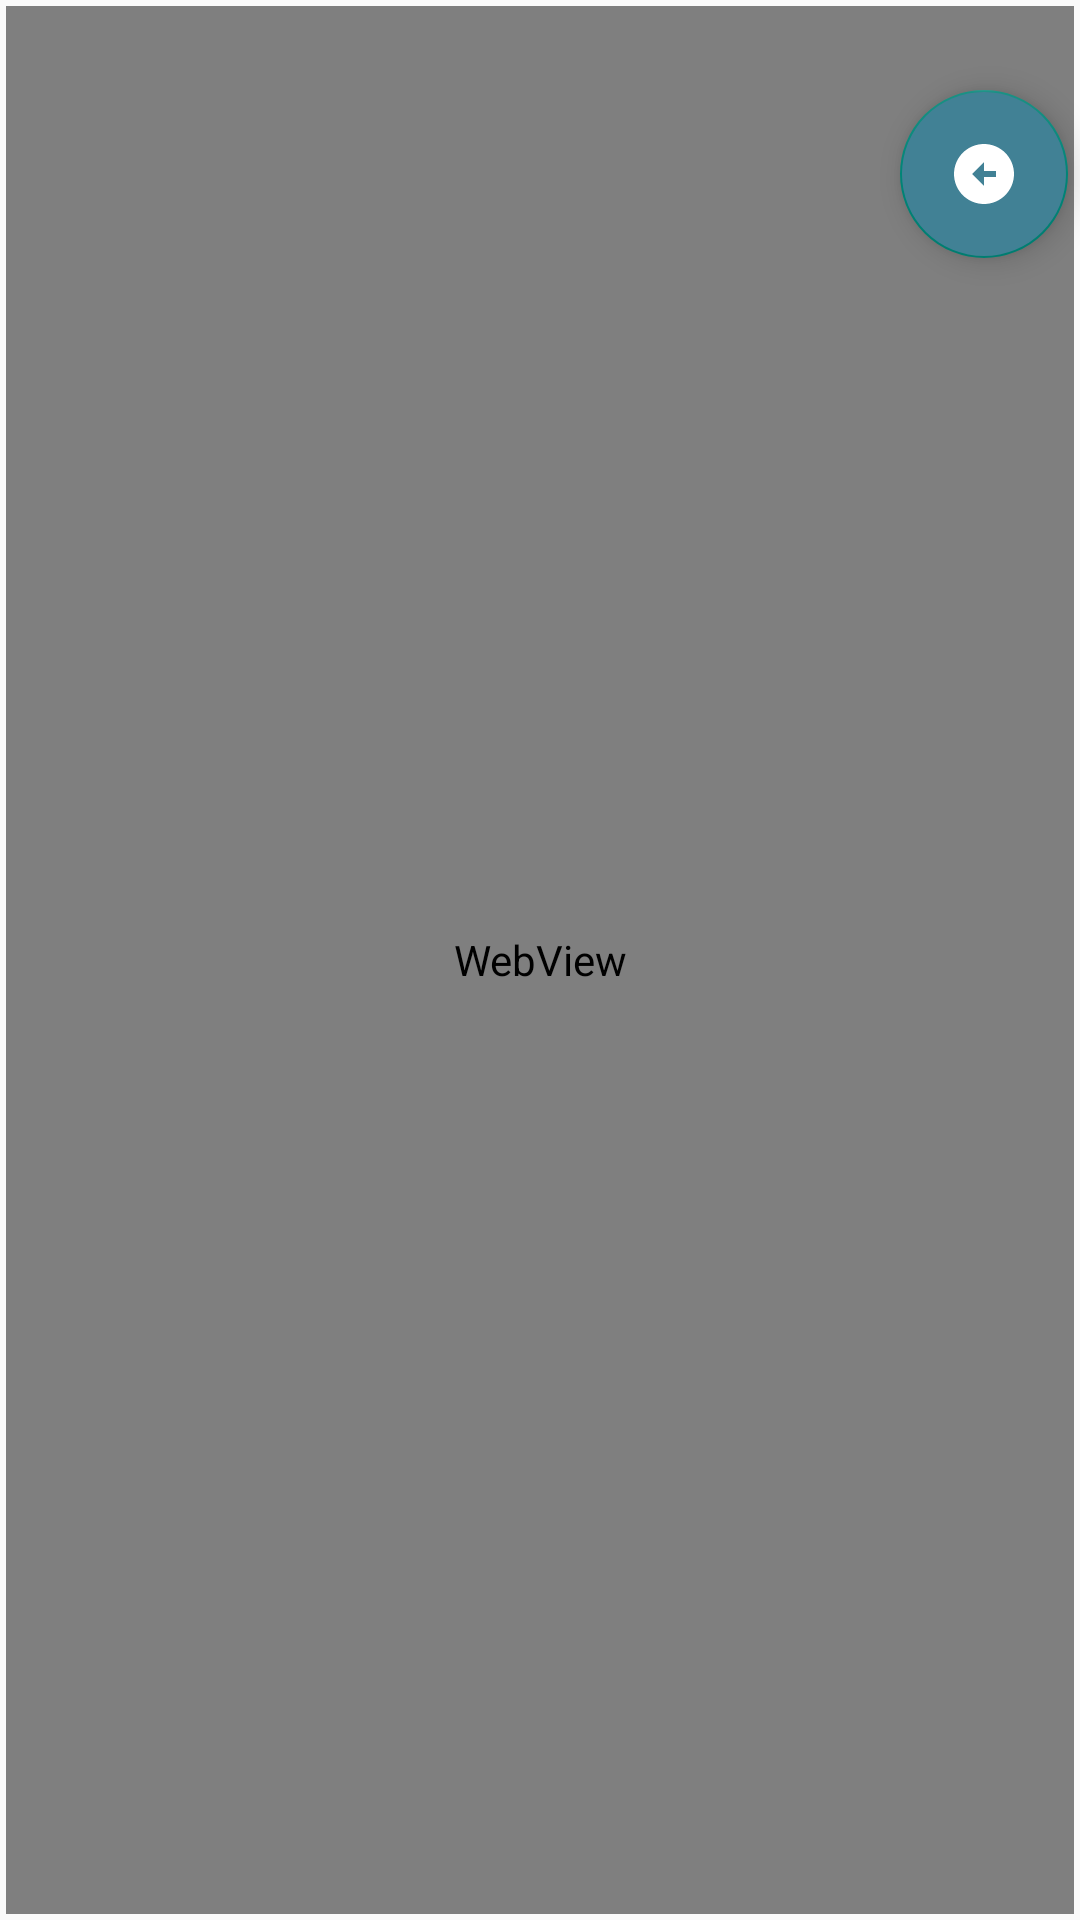

Where to tap for icons on this 1080x1920 app screen, as (x=x, y=y):
BACK: (x=984, y=174)
